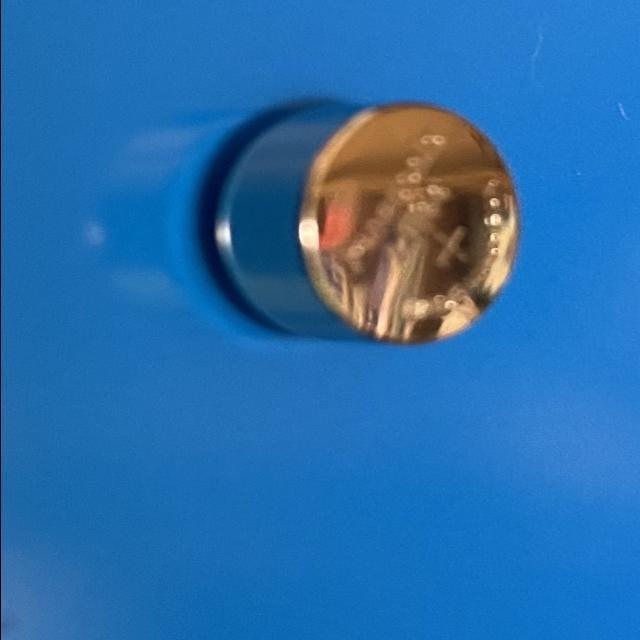COIN: (202, 96, 524, 350)
